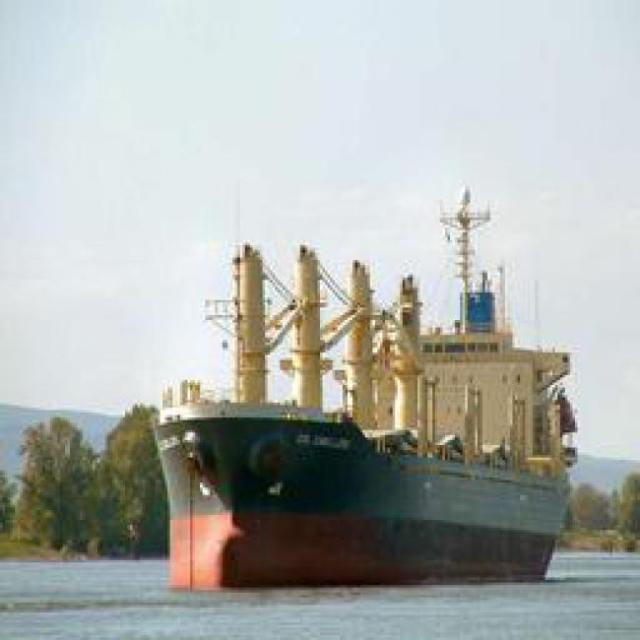boat: (78, 346, 591, 592)
